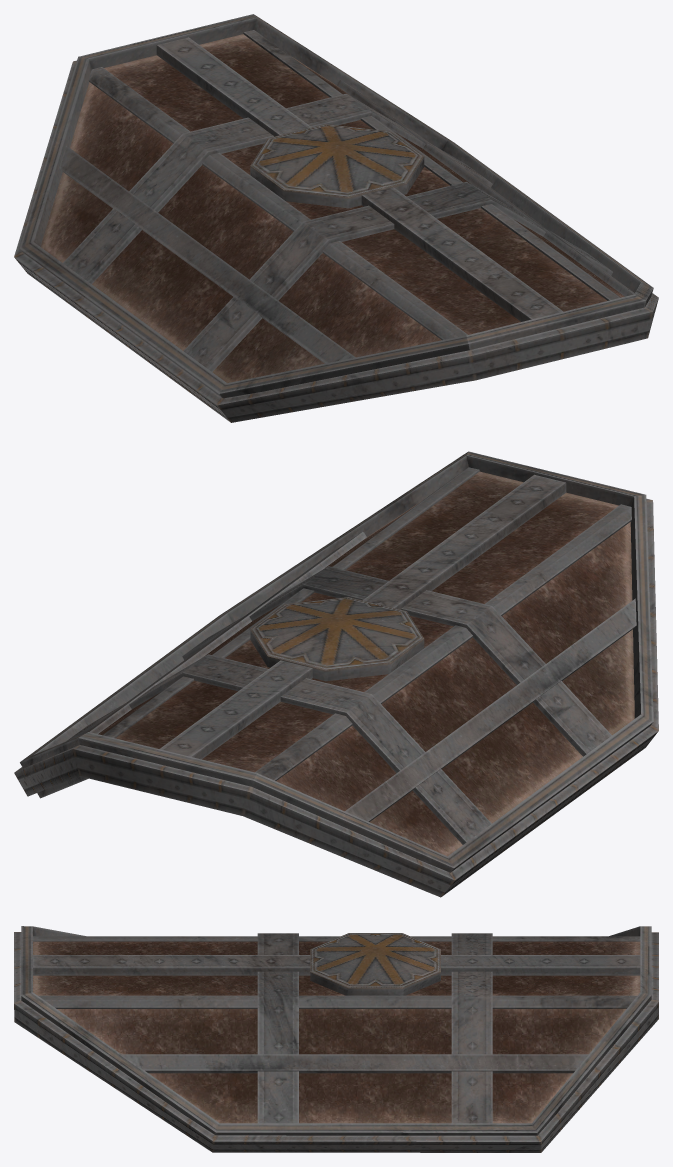
Rendered from sm_dwarf_erebor_shield_tower_c.fbx.
3 views of the same model, one above another, from view 1: azimuth 30°, elevation 25°; view 2: azimuth 150°, elevation 25°; view 3: azimuth 270°, elevation 25° (orthographic). The views are drawn at different scales.
Visible parts, largest first — view 1: sm_dwarf_erebor_shield_tower_c; view 2: sm_dwarf_erebor_shield_tower_c; view 3: sm_dwarf_erebor_shield_tower_c.
Part boxes in pixels (x1,y1,x2,y2): sm_dwarf_erebor_shield_tower_c: (14, 14, 658, 422); sm_dwarf_erebor_shield_tower_c: (14, 451, 658, 897); sm_dwarf_erebor_shield_tower_c: (14, 926, 658, 1152).
Bounding box in the file's own units: 0.661 × 1.04 × 0.2209.
Materials: 1 (1 with a texture image).
